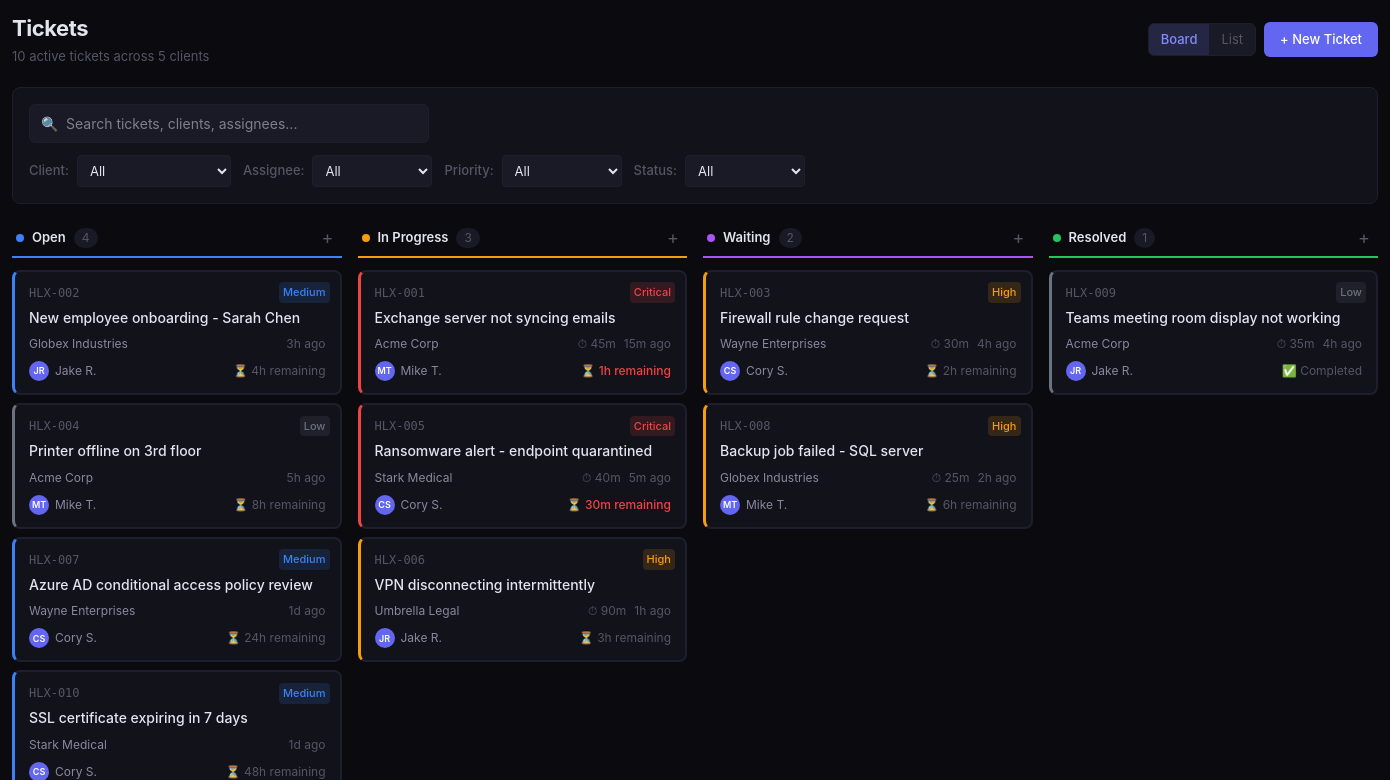
TicketBoard › can clear filters
This screenshot has width=1390, height=780.
// Add a search filter
Type "test" into the field with placeholder "Search tickets, clients, assignees...".
click(229, 123); type("test")  # box top-left (29, 104), bottom-right (429, 142)
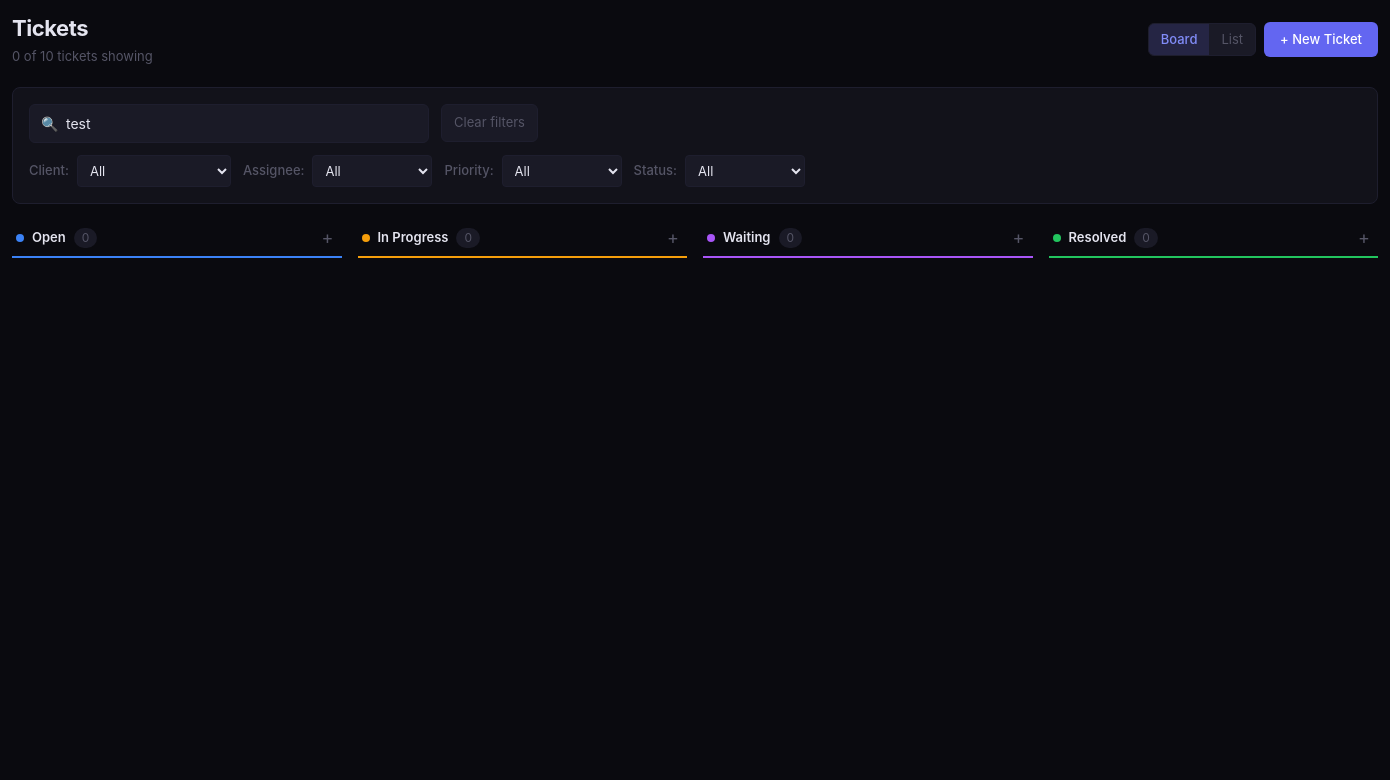
Click the button "Clear filters".
click(490, 123)  # box top-left (441, 104), bottom-right (538, 142)
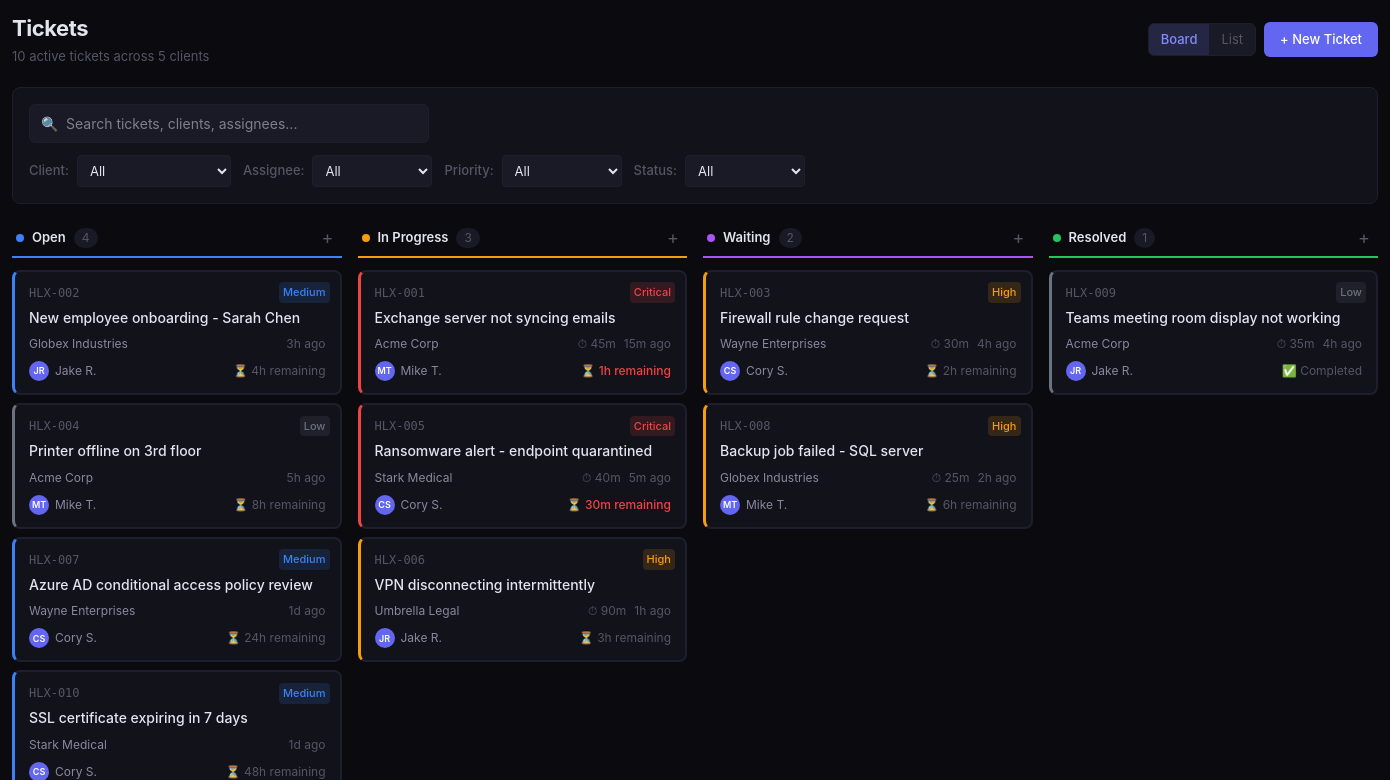
Result: the field with placeholder "Search tickets, clients, assignees..." is empty at top-left (29, 104), bottom-right (429, 142)
